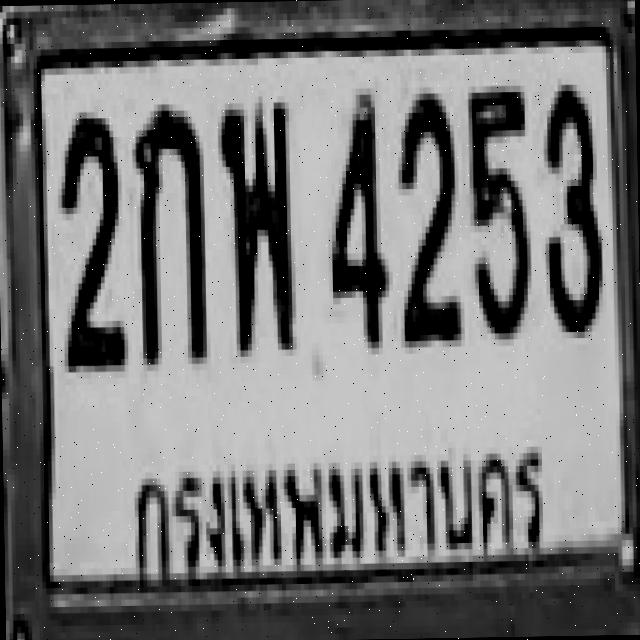10GorGai: (132, 103, 206, 358)
2: (56, 111, 124, 366), (394, 90, 458, 338)
3: (539, 78, 599, 332)
39PhorPan: (218, 96, 292, 350)
4: (326, 88, 386, 342)
5: (464, 82, 528, 337)
Bangkok: (119, 430, 558, 600)
